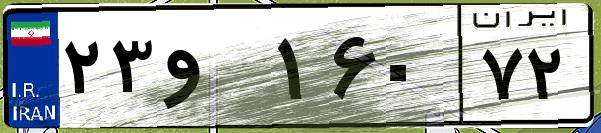0: (385, 28, 445, 110)
1: (270, 28, 330, 110)
2: (57, 26, 110, 100), (525, 38, 570, 115)
3: (110, 28, 158, 98)
6: (330, 28, 385, 110)
7: (475, 38, 525, 113)
و: (158, 20, 270, 120)
